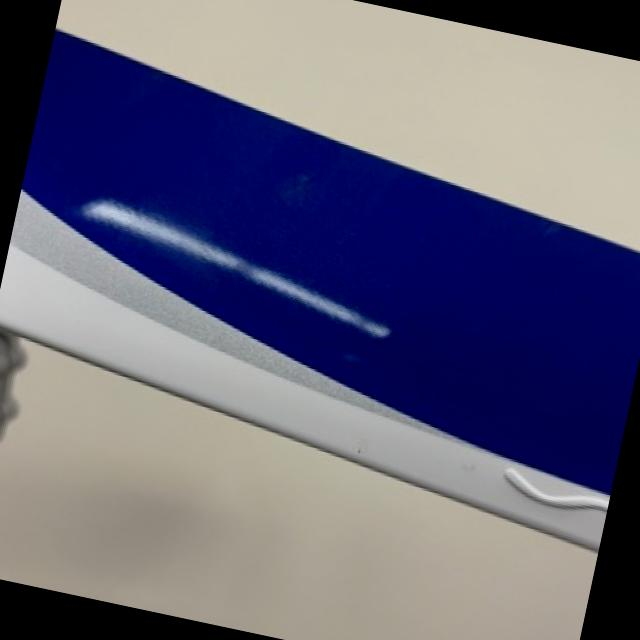healthy: (0, 28, 640, 547), (0, 339, 595, 640)
